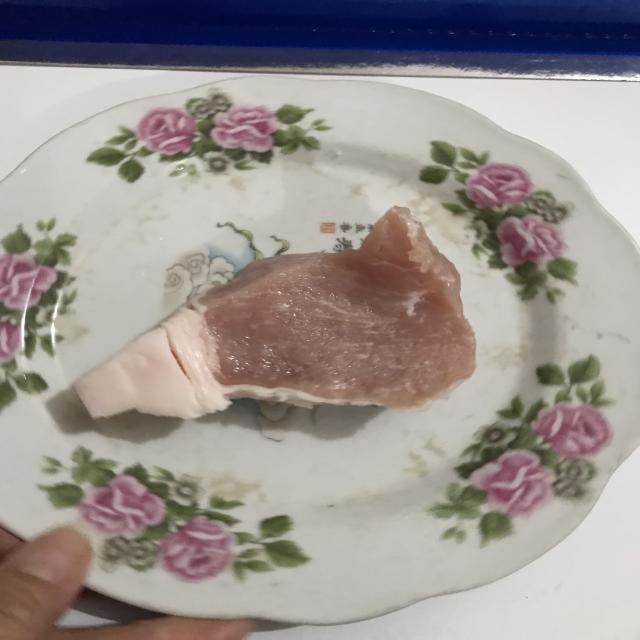chicken: (76, 201, 482, 416)
